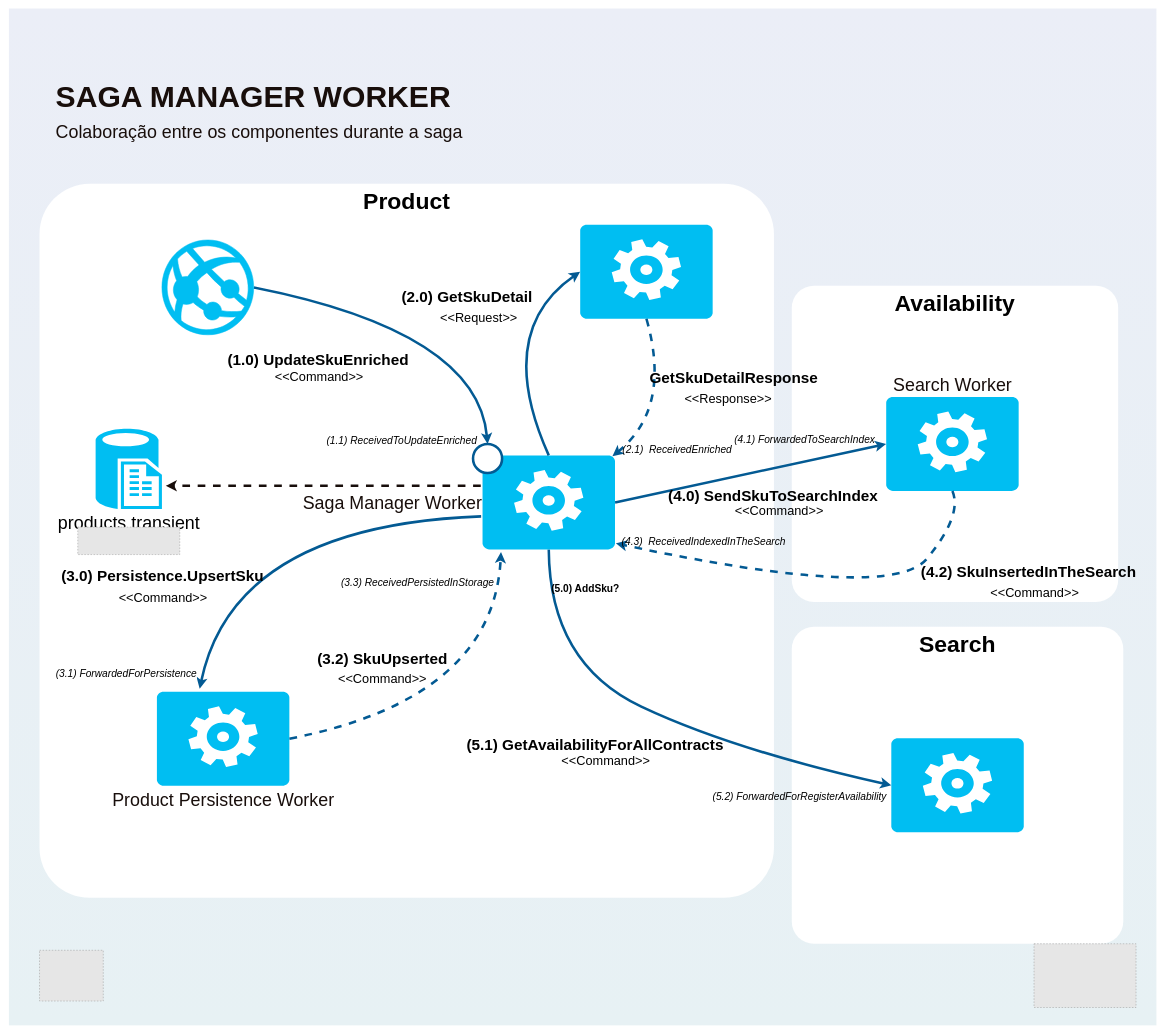
Some shapes in this 1165 by 1034 pixel diagram are drawn without their labels. Grey dashed boxes stand in for pictures. Each missing label, with the box of its shape:
Changes Manager Worker: (580, 224, 712, 318)
Enrichment Omnilogic API (result): (161, 239, 254, 335)
NotifiedToEnrichement: (471, 442, 503, 474)
Search Availability Worker: (891, 738, 1024, 832)
